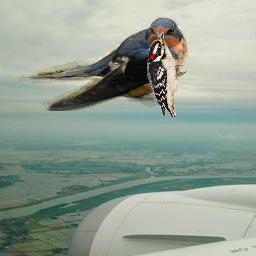Swallow: (18, 16, 188, 111)
Woodpecker: (147, 32, 187, 117)
